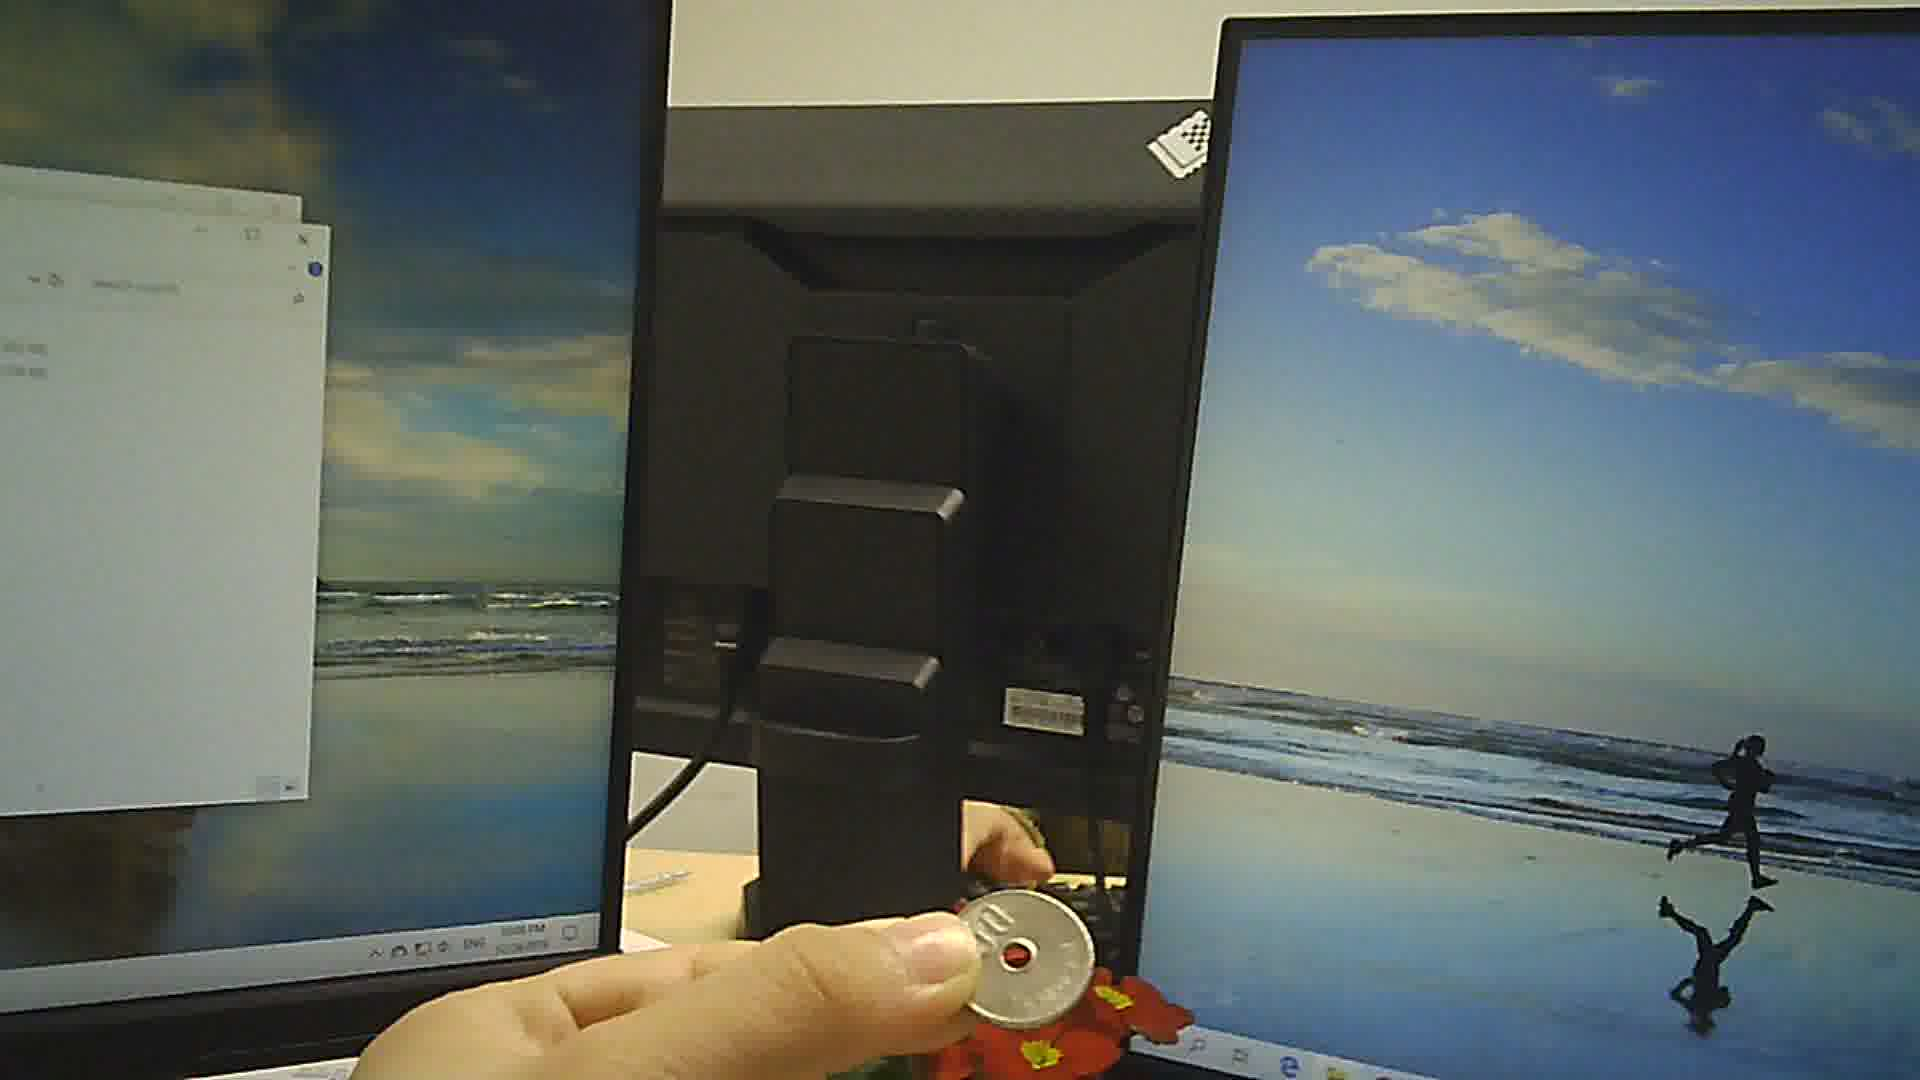50 Yen: (943, 889, 1101, 1027)
